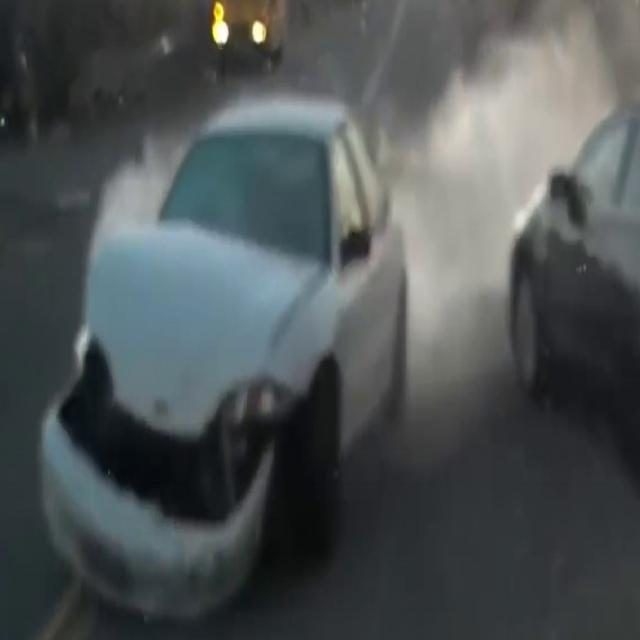accident: (23, 58, 396, 638)
